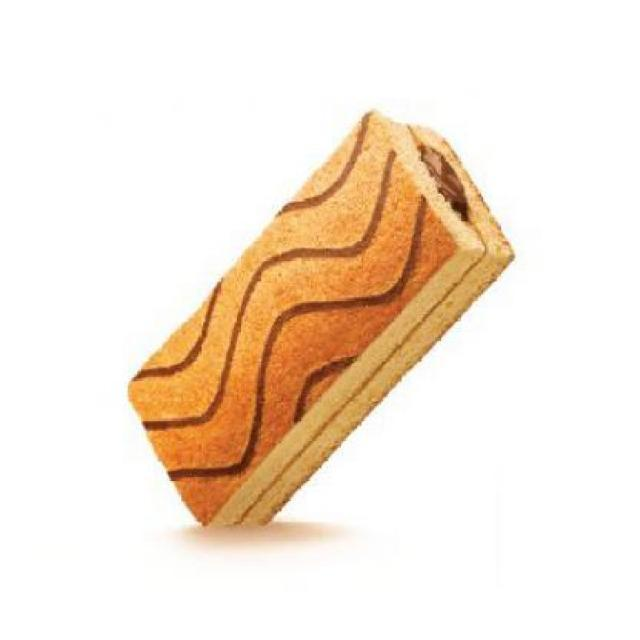Merendine packaged: (124, 109, 514, 546)
